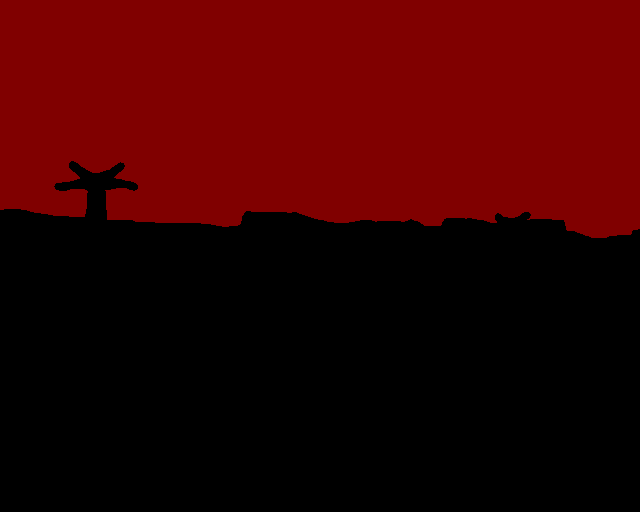Sky: (1, 1, 639, 238)
